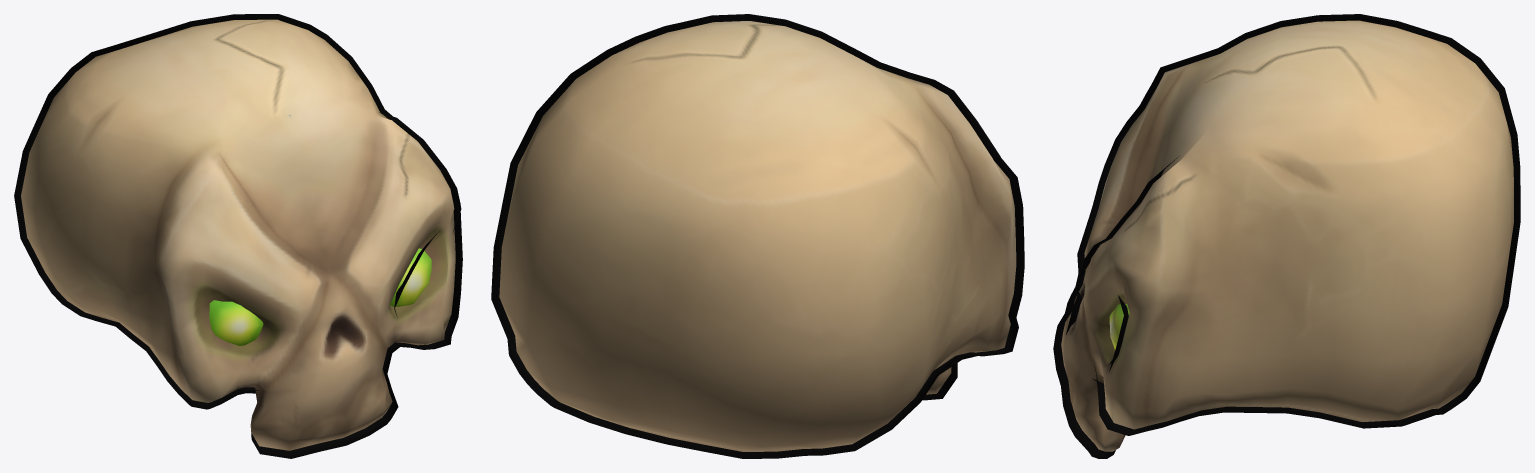
File: Necromancer_Head.fbx
The picture shows the model from 3 angles, left to right: view 1: azimuth 30°, elevation 25°; view 2: azimuth 150°, elevation 25°; view 3: azimuth 270°, elevation 25°; orthographic projection. The views are drawn at different scales.
Parts seen in each view (by area): view 1: Skull_low, Outline, Eyes_low; view 2: Skull_low, Outline; view 3: Skull_low, Outline.
Boxes of the visible parts, box(x1,y1,x2,y2) form: Skull_low: box(21, 19, 455, 450); Outline: box(14, 14, 462, 458); Eyes_low: box(209, 248, 431, 345); Skull_low: box(499, 21, 1016, 451); Outline: box(491, 14, 1024, 458); Skull_low: box(1061, 20, 1513, 451); Outline: box(1053, 14, 1520, 458).
Bounding box in the file's own units: 40.44 × 38.86 × 41.67.
